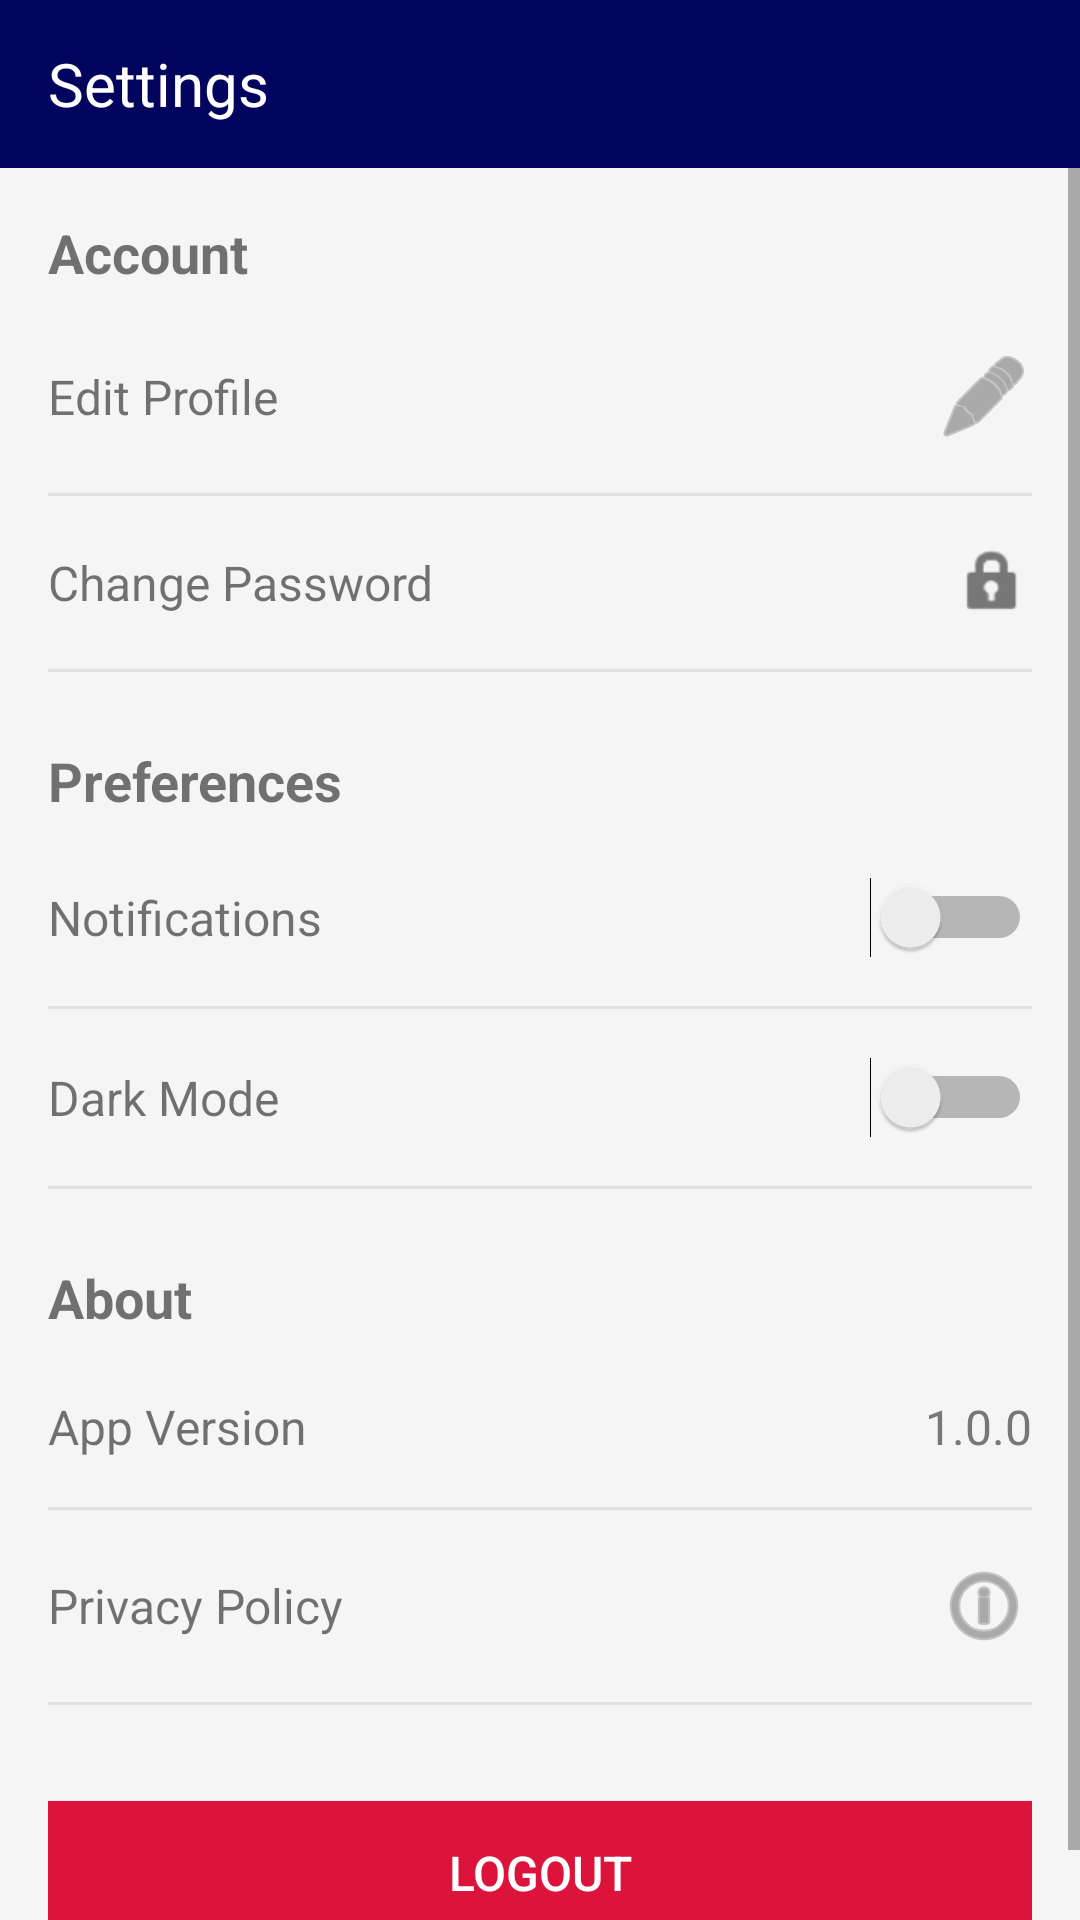

Screen size 1080w x 1920h. Icon name, then its center in pixels as point (x, y):
info details: point (984, 1606)
lock idle: point (992, 580)
